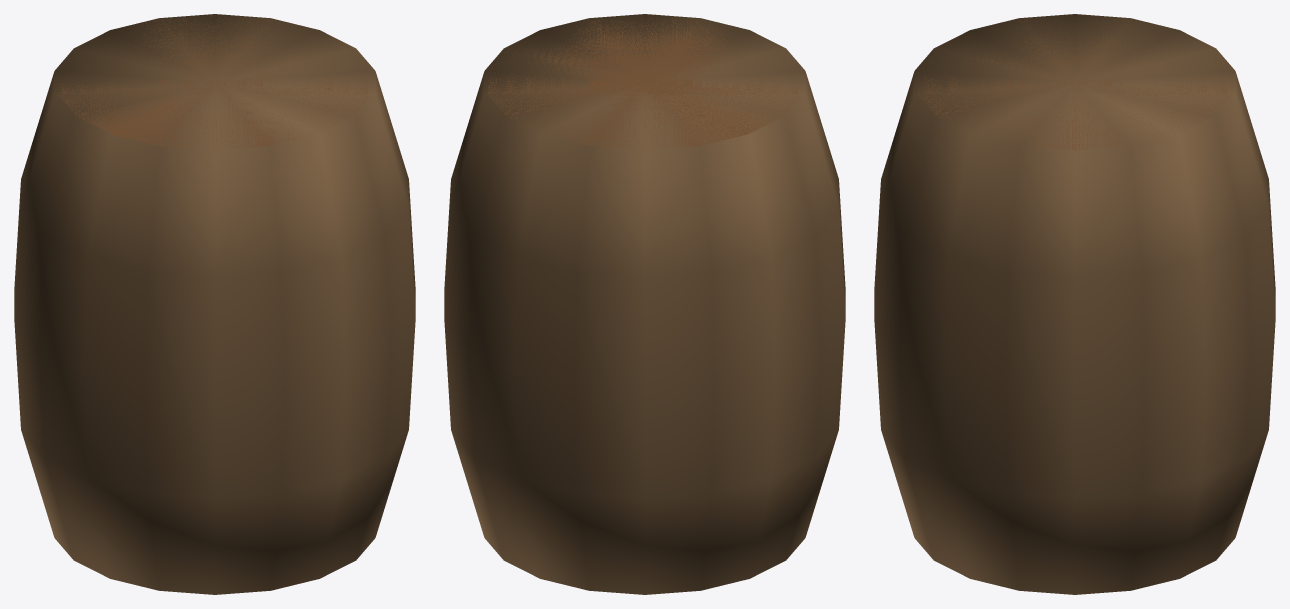
The model's file is prop_barrel.glb.
3 views of the same model, side by side, from view 1: azimuth 30°, elevation 25°; view 2: azimuth 150°, elevation 25°; view 3: azimuth 270°, elevation 25° (orthographic).
Visible parts, largest first — view 1: barrel, lid; view 2: barrel, lid; view 3: barrel, lid.
Part boxes in pixels (box(x1,y1,x2,y2)): barrel: box(14, 14, 415, 594); lid: box(58, 16, 372, 148); barrel: box(444, 14, 845, 594); lid: box(487, 17, 802, 149); barrel: box(874, 14, 1275, 594); lid: box(918, 19, 1232, 149).
Size of the model in its own units: 0.6 by 0.72 by 0.5909.
